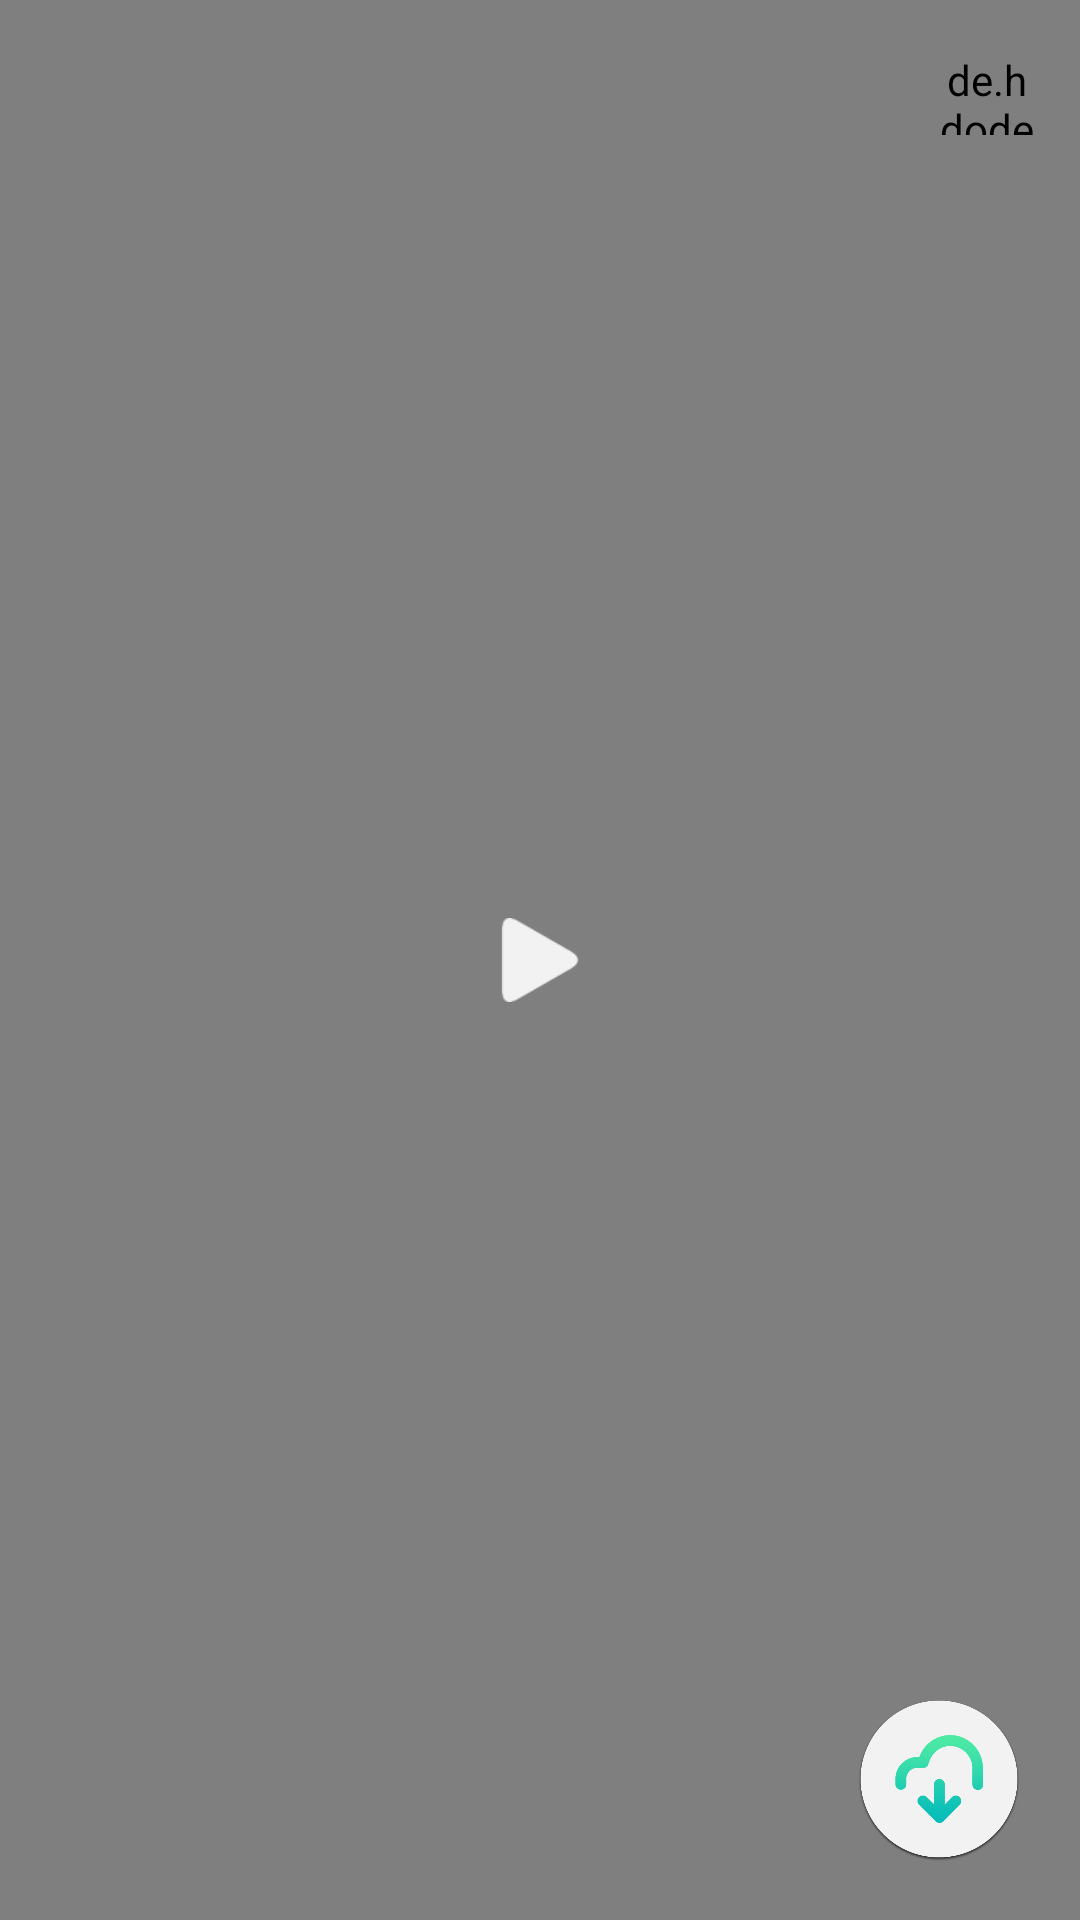

Named icons in this screenshot (1080×1920) and their bounding boxes, [x1=x1, y1=y1, x2=x2, y2=y2]:
downloadmyimage: [x1=860, y1=1701, x2=1018, y2=1860]
plays: [x1=502, y1=918, x2=578, y2=1002]
